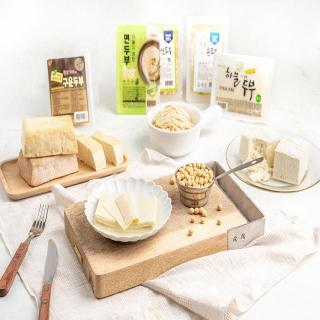Tahu: (18, 115, 126, 180)
